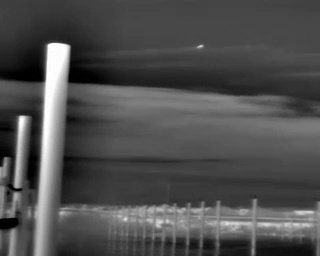BIRD: (193, 41, 207, 53)
